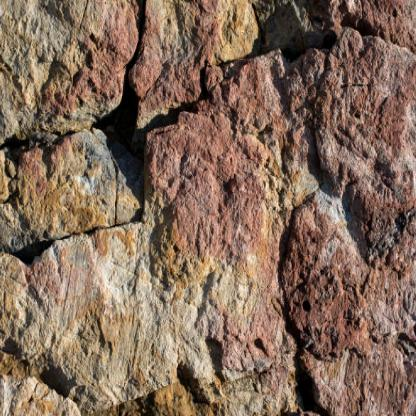Sedimentary_Limestone: (134, 44, 291, 415), (5, 222, 154, 416), (1, 110, 125, 247)
